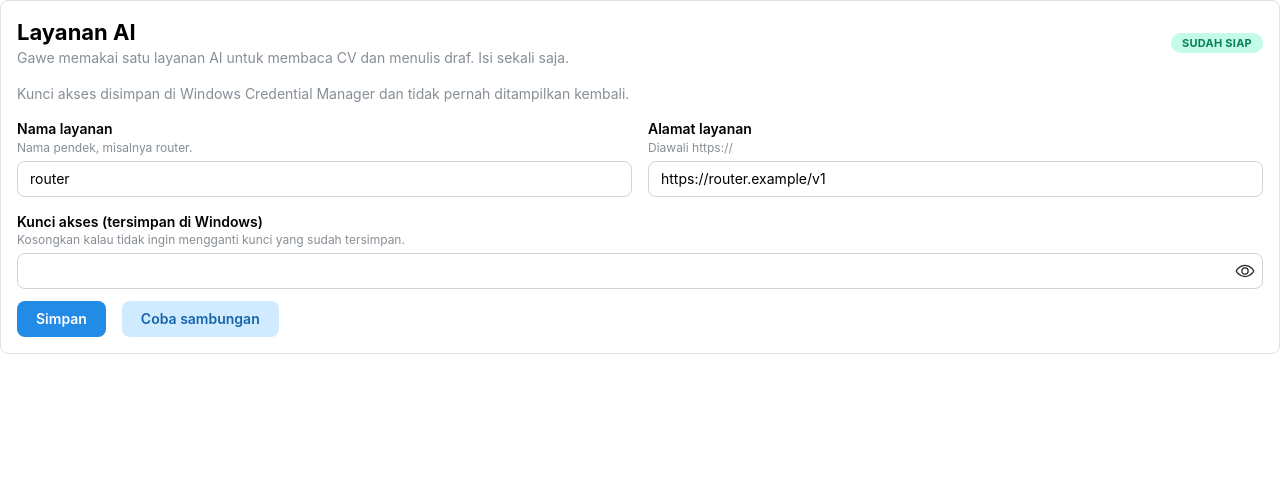
Test: ProviderSettings › shows the connection test result
Expected: the field showing "https://router.example/v1" is shown, [648,161,1263,197]
Click the button "Coba sambungan".
click(200, 319)  # box [122,301,279,337]
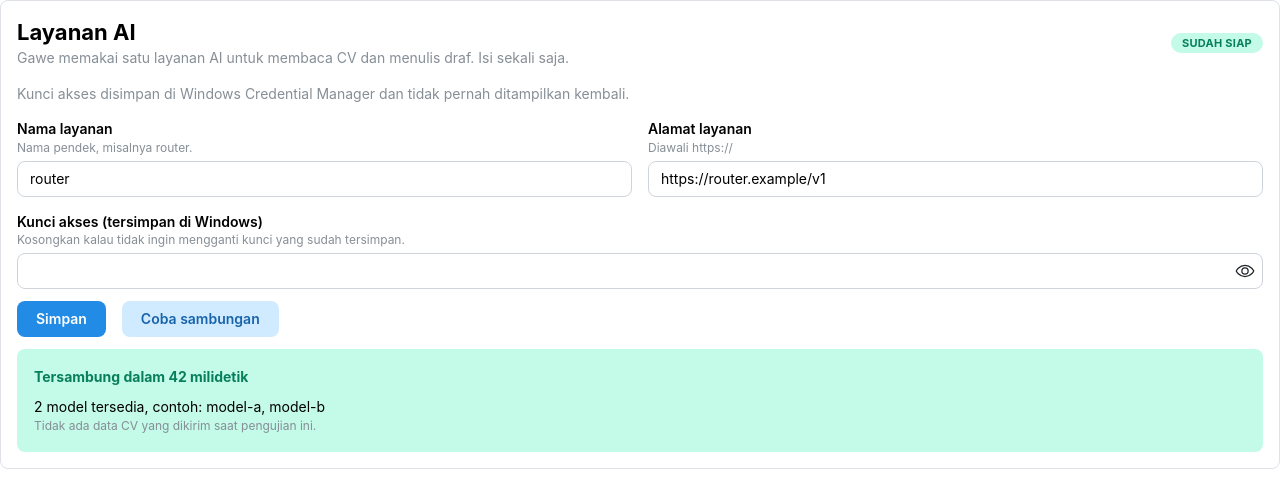
Result: the text "Tersambung dalam 42 milidetik" is shown at [34,366,248,388]
Result: the text "2 model tersedia, contoh: model-a, model-b" is shown at [34,398,325,416]
